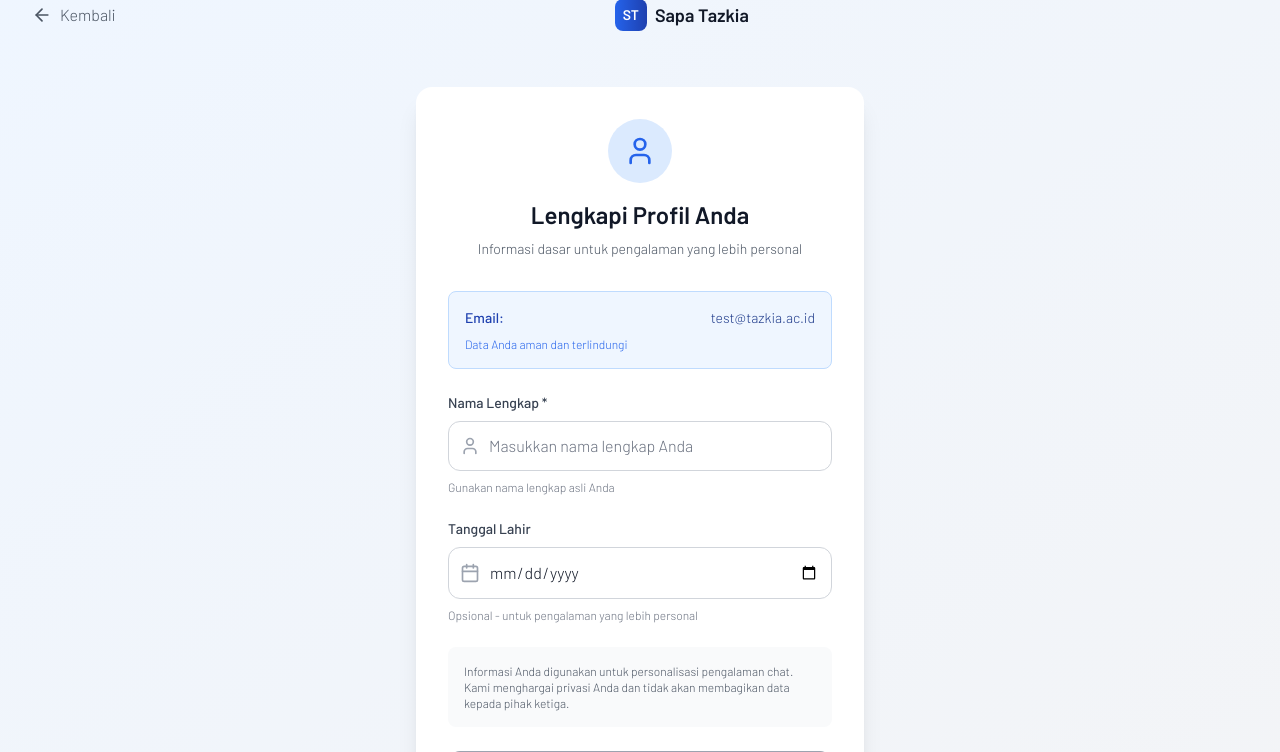
Test case: AboutYouPage › handles successful submission
The width and height of the screenshot is (1280, 752).
In the field labelled "Nama Lengkap *": (640, 446) [448, 421, 832, 471], type "New Name"
(page scrolled)
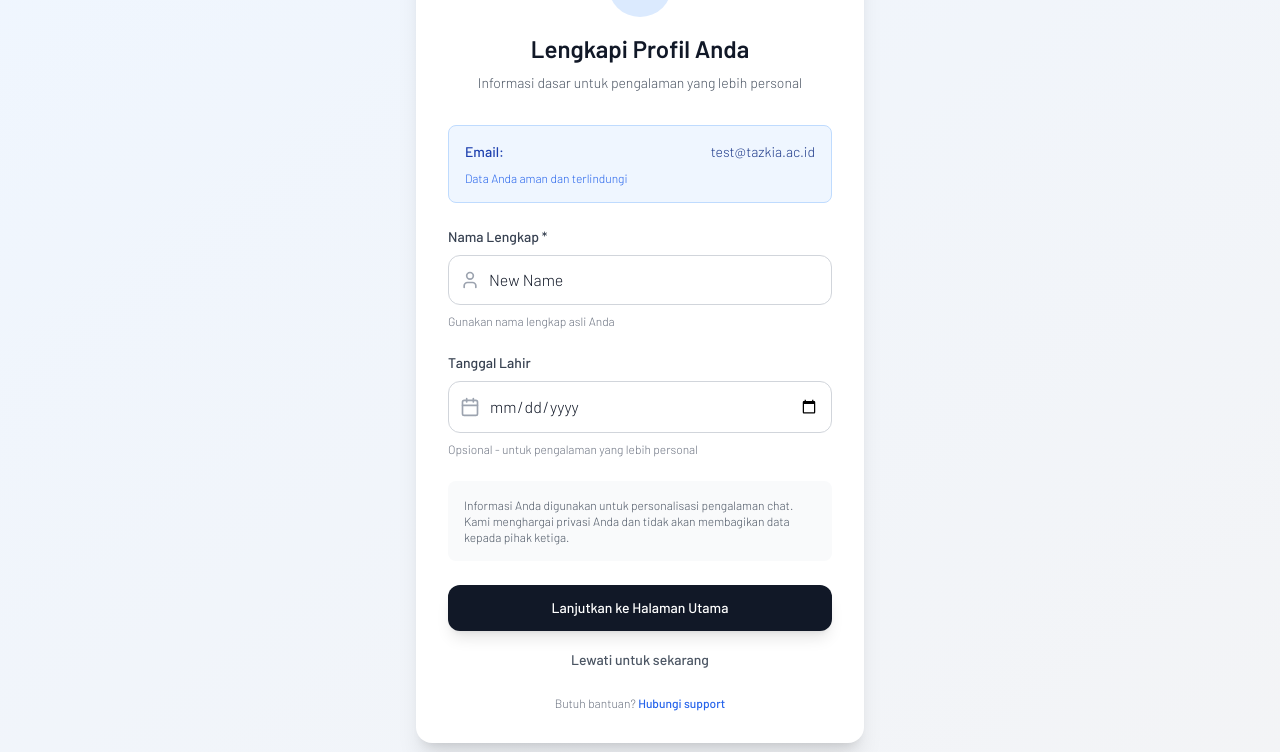
Click the button "Lanjutkan ke Halaman Utama": (640, 608) [448, 585, 832, 631]
Wait 2500 ms
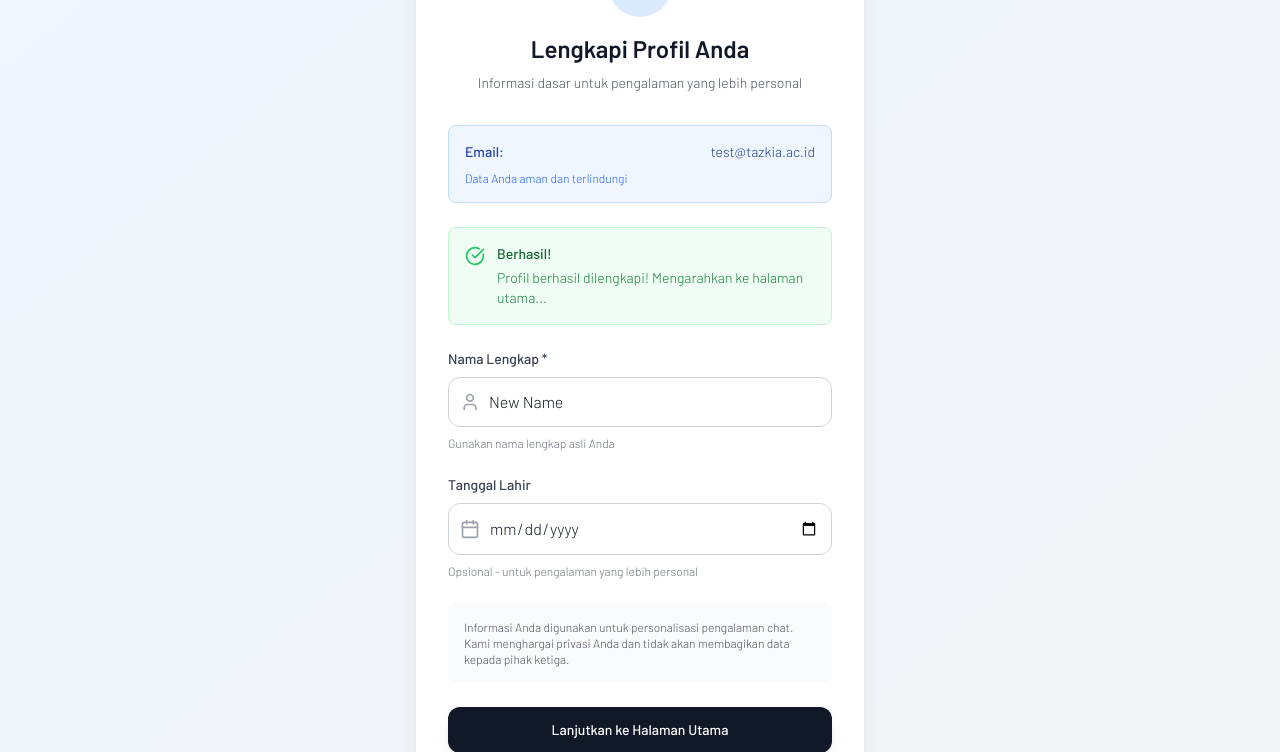
Result: the text "Profil berhasil dilengkapi! Mengarahkan ke halaman utama..." is shown at [497, 268, 815, 308]
